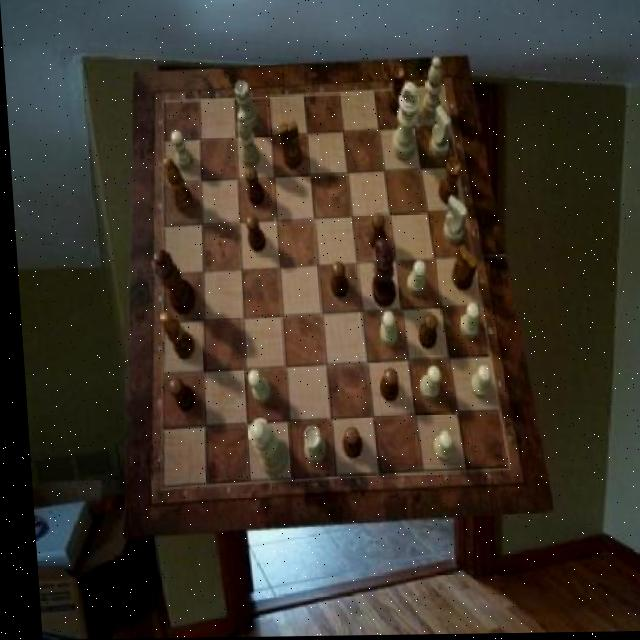bishop: (161, 157, 191, 214), (156, 312, 191, 360)
black-bishop: (364, 239, 392, 308)
black-king: (446, 247, 474, 293), (274, 121, 300, 170)
black-knight: (163, 377, 191, 412), (242, 168, 263, 207), (241, 216, 262, 254), (411, 315, 433, 351), (364, 214, 383, 252), (326, 262, 345, 298), (335, 428, 357, 459), (373, 370, 393, 404)
black-pawn: (148, 249, 194, 315)
black-queen: (433, 160, 460, 207), (384, 66, 406, 117)
black-rook: (417, 58, 444, 120), (234, 111, 258, 169)
white-bishop: (386, 83, 421, 163)
white-king: (438, 196, 465, 246), (426, 107, 450, 160)
white-knight: (168, 132, 191, 172), (463, 365, 487, 400), (412, 366, 436, 401), (242, 369, 266, 404), (453, 304, 475, 340), (374, 311, 394, 347), (402, 263, 423, 297), (426, 432, 448, 463)
white-pawn: (241, 419, 282, 477)
white-queen: (233, 82, 257, 133), (295, 426, 320, 465)
